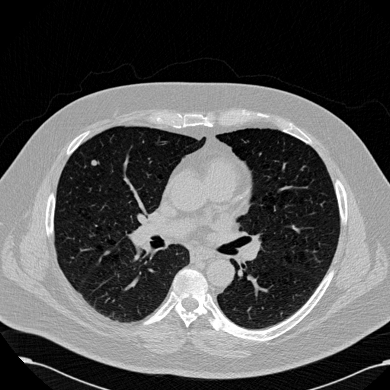nodule: (91, 160, 97, 166)
